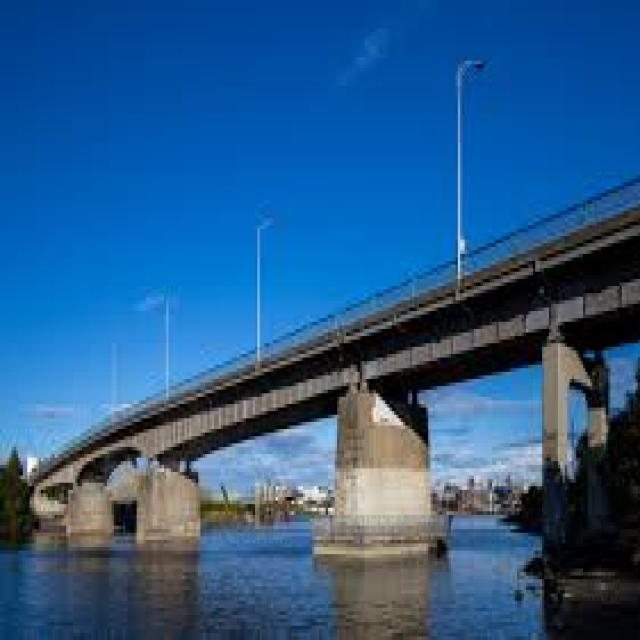Bridges: (14, 116, 640, 581)
